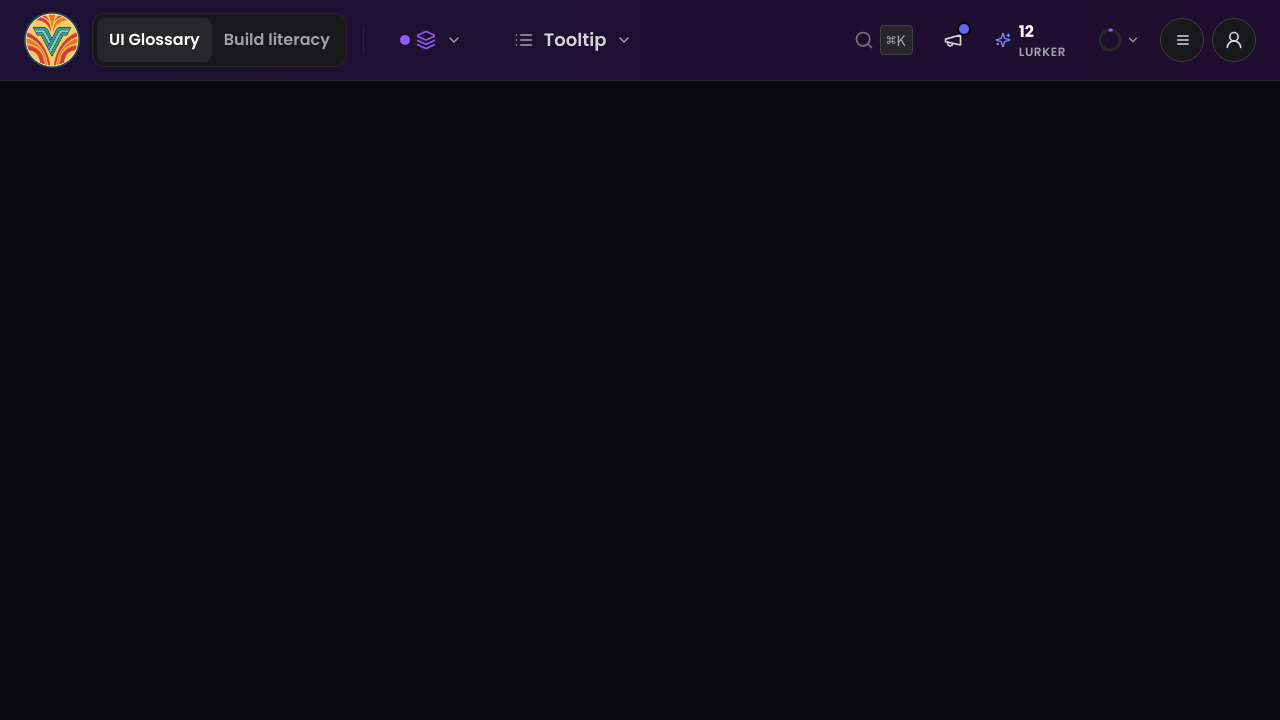
Test case: category dropdown panel › renders the category list when the Overlays pill is opened
Check: the button "Inputs" is not shown
What coordinates should you click on to do the following:
click the button named "Overlays"
I would click on:
 (431, 40)
Its box is [380, 18, 482, 62].
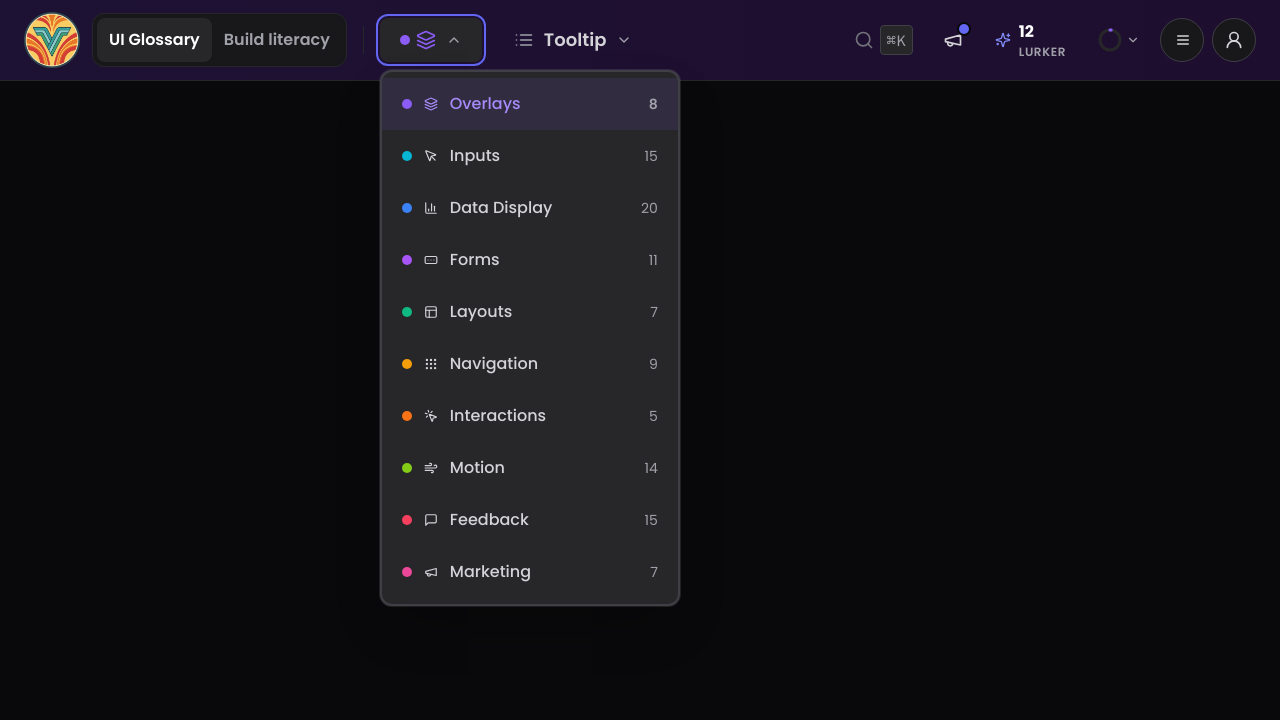
Check: the button "Inputs 15" is shown, box [382, 130, 678, 182]
Check: the button "Data Display 20" is shown, box [382, 182, 678, 234]
Check: the button "Navigation 9" is shown, box [382, 338, 678, 390]
